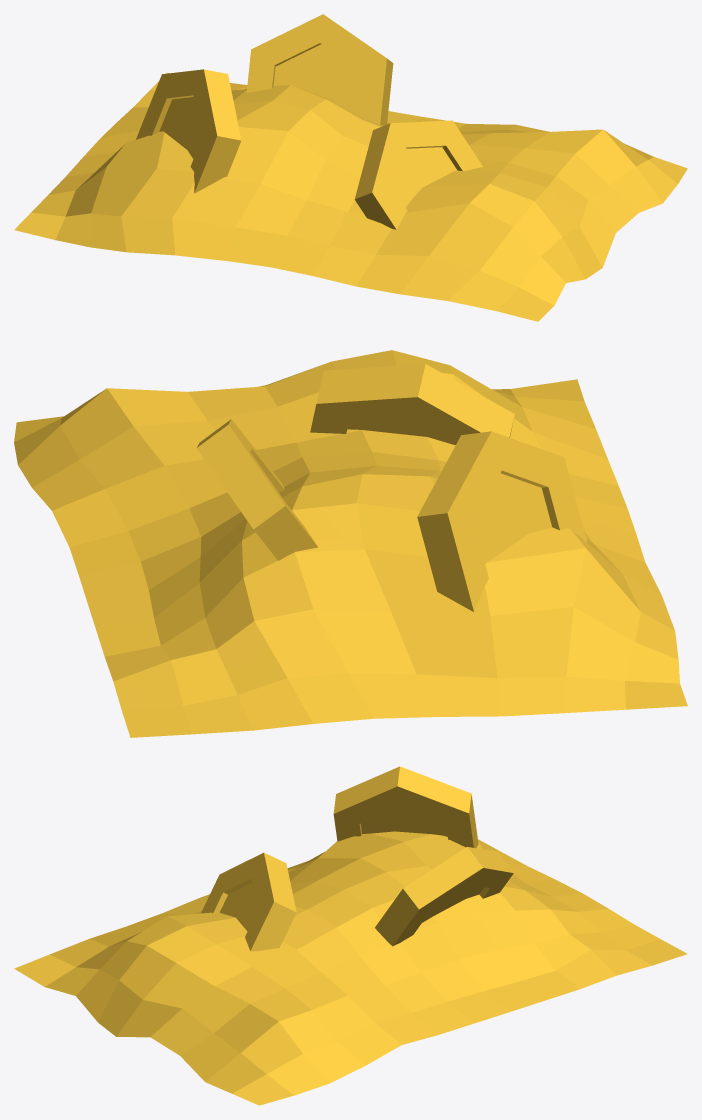
Rendered from n2_chests_gold_yellow_0_lev2.002.glb.
3 views of the same model, one above another, from view 1: azimuth 30°, elevation 25°; view 2: azimuth 150°, elevation 25°; view 3: azimuth 270°, elevation 25° (orthographic). The views are drawn at different scales.
Parts seen in each view (by area): view 1: n2_chests_gold_yellow_0_lev2.002; view 2: n2_chests_gold_yellow_0_lev2.002; view 3: n2_chests_gold_yellow_0_lev2.002.
Part boxes in pixels (x1,y1,x2,y2): n2_chests_gold_yellow_0_lev2.002: (14,14,687,321); n2_chests_gold_yellow_0_lev2.002: (14,350,687,737); n2_chests_gold_yellow_0_lev2.002: (14,766,687,1105).
Bounding box in the file's own units: 1.72 × 0.4698 × 1.78.
